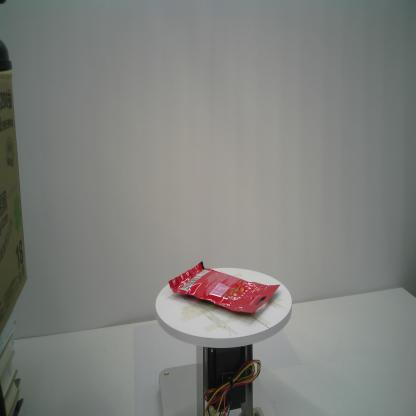Candy: (168, 259, 281, 315)
